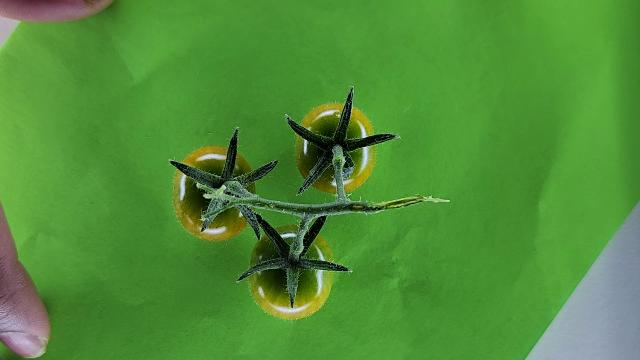Fully Grown: (246, 223, 336, 319), (171, 145, 256, 241), (294, 102, 376, 194)
